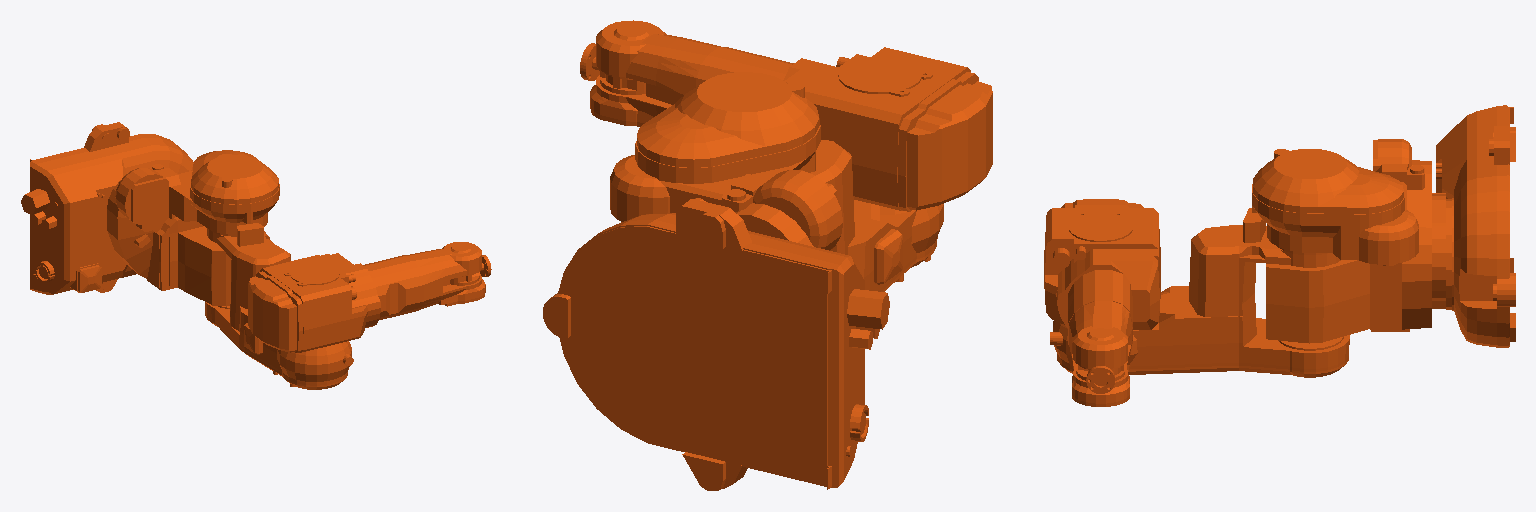
robot.urdf — irb140:
<?xml version="1.0" encoding="UTF-8"?>
<robot name="irb140">
   <link name="base_link">
      <visual>
         <origin xyz="0 0 0" rpy="0 0 0" />
         <geometry>
            <mesh filename="package://irb140/meshes/base_link.STL" />
         </geometry>
         <material name="">
            <color rgba="0.8902 0.41176 0.12549 1" />
         </material>
      </visual>
      <collision>
         <origin xyz="0 0 0" rpy="0 0 0" />
         <geometry>
            <mesh filename="package://irb140/meshes/base_link.STL" />
         </geometry>
      </collision>
   </link>
   <link name="Link1">
      <inertial>
         <origin xyz="0.029077 0.044209 0.1717" rpy="0 0 0" />
         <mass value="14.1" />
         <inertia ixx="0.212" ixy="0.018126" ixz="0.039941" iyy="0.17535" iyz="0.023312" izz="0.1711" />
      </inertial>
      <visual>
         <origin xyz="0 0 0" rpy="0 0 0" />
         <geometry>
            <mesh filename="package://irb140/meshes/Link1.STL" />
         </geometry>
         <material name="">
            <color rgba="0.8902 0.41176 0.12549 1" />
         </material>
      </visual>
      <collision>
         <origin xyz="0 0 0" rpy="0 0 0" />
         <geometry>
            <mesh filename="package://irb140/meshes/Link1.STL" />
         </geometry>
      </collision>
   </link>
   <joint name="joint_1" type="revolute">
      <origin xyz="0 -0.0903 0" rpy="1.5708 0 0" />
      <parent link="base_link" />
      <child link="Link1" />
      <axis xyz="0 0 1" />
      <limit lower="0" upper="0" effort="0" velocity="0" />
      <calibration rising="0" falling="0" />
      <dynamics damping="0" friction="0" />
      <safety_controller soft_upper="0" soft_lower="0" k_position="0" k_velocity="0" />
   </joint>
   <link name="Link2">
      <inertial>
         <origin xyz="-0.0097278 -0.092434 0.19829" rpy="0 0 0" />
         <mass value="7.5804" />
         <inertia ixx="0.15574" ixy="-0.0005161" ixz="0.0018292" iyy="0.1315" iyz="-0.017977" izz="0.044937" />
      </inertial>
      <visual>
         <origin xyz="0 0 0" rpy="0 0 0" />
         <geometry>
            <mesh filename="package://irb140/meshes/Link2.STL" />
         </geometry>
         <material name="">
            <color rgba="0.8902 0.41176 0.12549 1" />
         </material>
      </visual>
      <collision>
         <origin xyz="0 0 0" rpy="0 0 0" />
         <geometry>
            <mesh filename="package://irb140/meshes/Link2.STL" />
         </geometry>
      </collision>
   </link>
   <joint name="joint_2" type="revolute">
      <origin xyz="0.07 0 0.263" rpy="0 0 0" />
      <parent link="Link1" />
      <child link="Link2" />
      <axis xyz="0 1 0" />
      <limit lower="0" upper="0" effort="0" velocity="0" />
      <calibration rising="0" falling="0" />
      <dynamics damping="0" friction="0" />
      <safety_controller soft_upper="0" soft_lower="0" k_position="0" k_velocity="0" />
   </joint>
   <link name="Link3">
      <inertial>
         <origin xyz="0.023168 0.0069313 -0.0055785" rpy="0 0 0" />
         <mass value="8.0495" />
         <inertia ixx="0.032211" ixy="-0.0031355" ixz="-0.001634" iyy="0.0978" iyz="-0.0003708" izz="0.089599" />
      </inertial>
      <visual>
         <origin xyz="0 0 0" rpy="0 0 0" />
         <geometry>
            <mesh filename="package://irb140/meshes/Link3.STL" />
         </geometry>
         <material name="">
            <color rgba="0.8902 0.41176 0.12549 1" />
         </material>
      </visual>
      <collision>
         <origin xyz="0 0 0" rpy="0 0 0" />
         <geometry>
            <mesh filename="package://irb140/meshes/Link3.STL" />
         </geometry>
      </collision>
   </link>
   <joint name="joint_3" type="revolute">
      <origin xyz="0 0 0.36" rpy="0 0 0" />
      <parent link="Link2" />
      <child link="Link3" />
      <axis xyz="0 1 0" />
      <limit lower="0" upper="0" effort="0" velocity="0" />
      <calibration rising="0" falling="0" />
      <dynamics damping="0" friction="0" />
      <safety_controller soft_upper="0" soft_lower="0" k_position="0" k_velocity="0" />
   </joint>
   <link name="Link4">
      <inertial>
         <origin xyz="0.085328 -0.0010873 0.004944" rpy="0 0 0" />
         <mass value="1.6934" />
         <inertia ixx="0.0031836" ixy="-0.00022431" ixz="1.658E-05" iyy="0.006092" iyz="-2.9727E-06" izz="0.006995" />
      </inertial>
      <visual>
         <origin xyz="0 0 0" rpy="0 0 0" />
         <geometry>
            <mesh filename="package://irb140/meshes/Link4.STL" />
         </geometry>
         <material name="">
            <color rgba="0.8902 0.41176 0.12549 1" />
         </material>
      </visual>
      <collision>
         <origin xyz="0 0 0" rpy="0 0 0" />
         <geometry>
            <mesh filename="package://irb140/meshes/Link4.STL" />
         </geometry>
      </collision>
   </link>
   <joint name="joint_4" type="revolute">
      <origin xyz="0.2385 -0.0005 -0.0049857" rpy="0 0 0" />
      <parent link="Link3" />
      <child link="Link4" />
      <axis xyz="1 0 0" />
      <limit lower="0" upper="0" effort="0" velocity="0" />
      <calibration rising="0" falling="0" />
      <dynamics damping="0" friction="0" />
      <safety_controller soft_upper="0" soft_lower="0" k_position="0" k_velocity="0" />
   </joint>
   <link name="Link5">
      <inertial>
         <origin xyz="-0.0013999 0.00049998 -0.00076618" rpy="0 0 0" />
         <mass value="0.1261" />
         <inertia ixx="6.5744E-05" ixy="-4.2742E-11" ixz="-1.6335E-06" iyy="0.0001092" iyz="1.1648E-09" izz="6.4718E-05" />
      </inertial>
      <visual>
         <origin xyz="0 0 0" rpy="0 0 0" />
         <geometry>
            <mesh filename="package://irb140/meshes/Link5.STL" />
         </geometry>
         <material name="">
            <color rgba="0.8902 0.41176 0.12549 1" />
         </material>
      </visual>
      <collision>
         <origin xyz="0 0 0" rpy="0 0 0" />
         <geometry>
            <mesh filename="package://irb140/meshes/Link5.STL" />
         </geometry>
      </collision>
   </link>
   <joint name="joint_5" type="revolute">
      <origin xyz="0.1415 0 0.0049857" rpy="2.6185E-05 0 0" />
      <parent link="Link4" />
      <child link="Link5" />
      <axis xyz="0 1 2.6185E-05" />
      <limit lower="0" upper="0" effort="0" velocity="0" />
      <calibration rising="0" falling="0" />
      <dynamics damping="0" friction="0" />
      <safety_controller soft_upper="0" soft_lower="0" k_position="0" k_velocity="0" />
   </joint>
   <link name="Link6">
      <inertial>
         <origin xyz="0.020505 -7.343E-09 -0.00028042" rpy="0 0 0" />
         <mass value="0.018149" />
         <inertia ixx="4.9517E-06" ixy="-5.3234E-13" ixz="-2.033E-08" iyy="3.3735E-06" iyz="-2.7027E-12" izz="3.4768E-06" />
      </inertial>
      <visual>
         <origin xyz="0 0 0" rpy="0 0 0" />
         <geometry>
            <mesh filename="package://irb140/meshes/Link6.STL" />
         </geometry>
         <material name="">
            <color rgba="0.8902 0.41176 0.12549 1" />
         </material>
      </visual>
      <collision>
         <origin xyz="0 0 0" rpy="0 0 0" />
         <geometry>
            <mesh filename="package://irb140/meshes/Link6.STL" />
         </geometry>
      </collision>
   </link>
   <joint name="joint_6" type="revolute">
      <origin xyz="0.036 0.0005 0" rpy="-2.6185E-05 0 0" />
      <parent link="Link5" />
      <child link="Link6" />
      <axis xyz="1 0 0" />
      <limit lower="0" upper="0" effort="0" velocity="0" />
      <calibration rising="0" falling="0" />
      <dynamics damping="0" friction="0" />
      <safety_controller soft_upper="0" soft_lower="0" k_position="0" k_velocity="0" />
   </joint>
</robot>

--- Facts derived from the render (not from the file) ---
The picture shows the robot from 3 angles, left to right: view 1: azimuth 30°, elevation 25°; view 2: azimuth 150°, elevation 25°; view 3: azimuth 270°, elevation 25°; orthographic projection.
Robot: irb140 — 7 links, 6 joints (6 revolute); root link base_link; default pose: every joint at zero.
Visible links, largest first — view 1: Link1, base_link, Link3, Link2, Link4; view 2: base_link, Link1, Link3, Link4, Link2, Link5, Link6; view 3: Link1, Link2, base_link, Link3, Link4, Link6.
Boxes of the visible links, bbox=[...] form: Link1: bbox=[107, 150, 279, 306]; base_link: bbox=[21, 122, 193, 294]; Link3: bbox=[248, 253, 418, 352]; Link2: bbox=[205, 223, 353, 389]; Link4: bbox=[398, 242, 485, 311]; base_link: bbox=[543, 198, 889, 490]; Link1: bbox=[610, 72, 842, 250]; Link3: bbox=[705, 47, 992, 211]; Link4: bbox=[590, 20, 732, 126]; Link2: bbox=[801, 140, 943, 291]; Link5: bbox=[600, 70, 645, 94]; Link6: bbox=[580, 43, 599, 80]; Link1: bbox=[1252, 139, 1451, 343]; Link2: bbox=[1050, 208, 1349, 377]; base_link: bbox=[1436, 105, 1515, 347]; Link3: bbox=[1044, 199, 1160, 329]; Link4: bbox=[1068, 297, 1132, 406]; Link6: bbox=[1086, 366, 1114, 393].
Bounding box of the posed robot: 0.8282 × 0.8103 × 0.4054 m (x, y, z).
7 mesh visuals loaded from 7 distinct referenced files (7 binary STL).